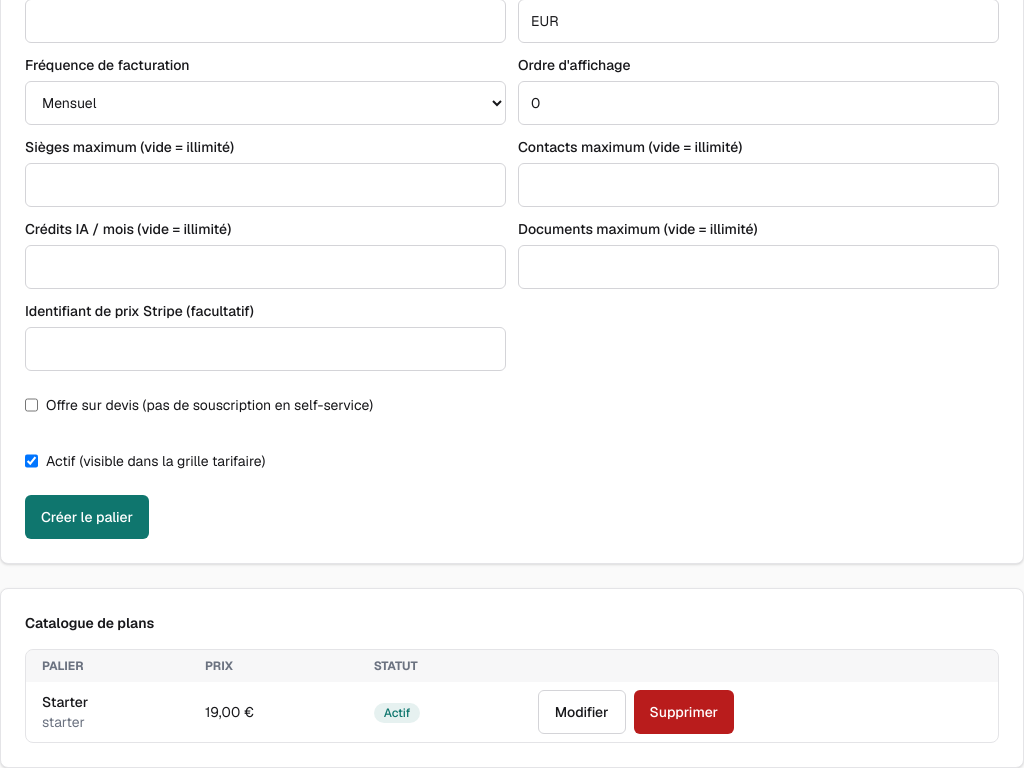
Test case: PlatformPlansPage › supprime un palier
(page scrolled)
Check: the text "Starter" is shown, box [42,693,88,711]
Click the button "Supprimer". click: point(684, 712)
box: [634,690,734,734]
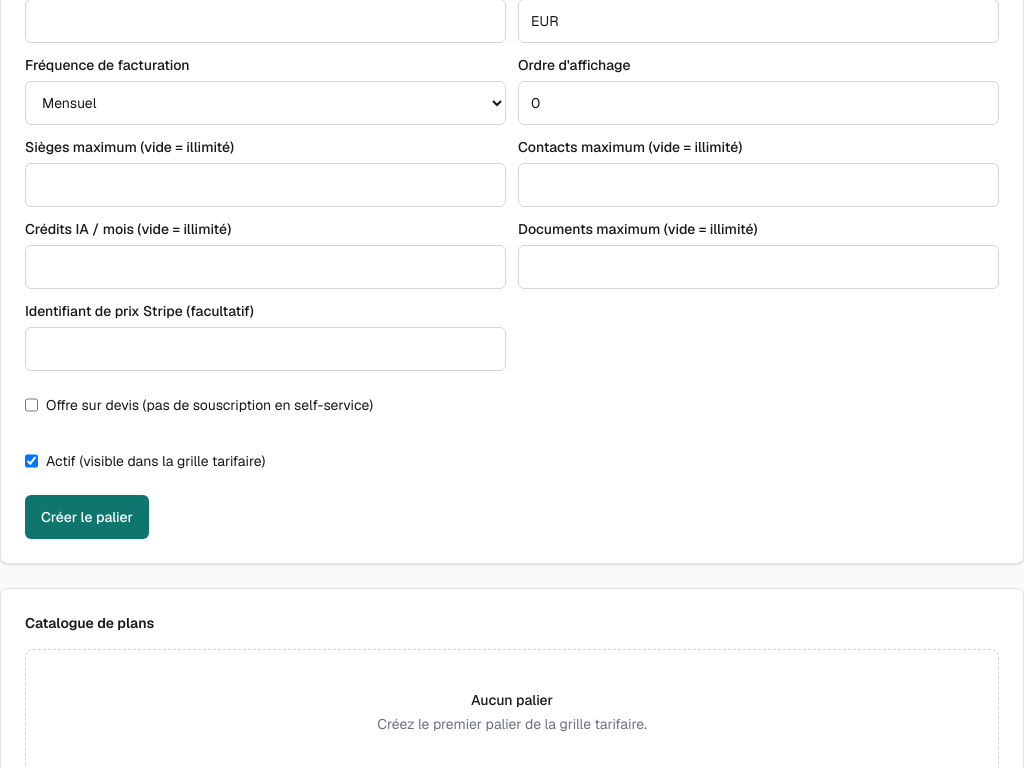
Check: the text "Starter" is gone
